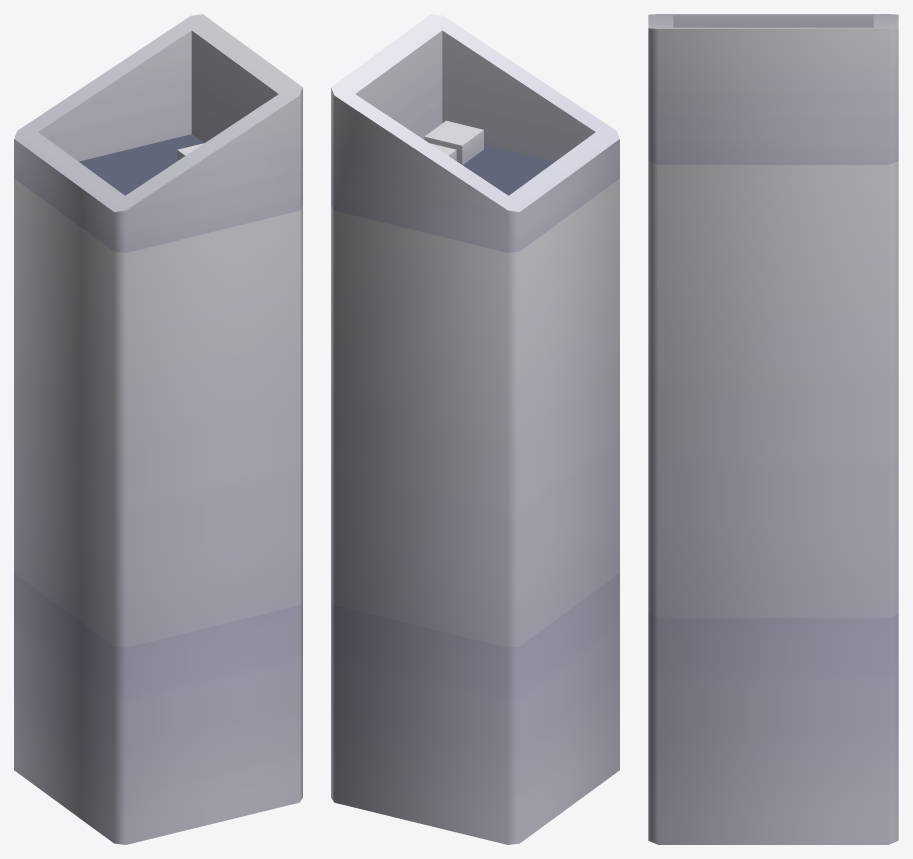
Rendered from low-detail-building-e.glb.
3 views of the same model, side by side, from view 1: azimuth 30°, elevation 25°; view 2: azimuth 150°, elevation 25°; view 3: azimuth 270°, elevation 25° (orthographic). The views are drawn at different scales.
Parts seen in each view (by area): view 1: low-detail-building-e; view 2: low-detail-building-e; view 3: low-detail-building-e.
Part boxes in pixels (bbox=[...]): low-detail-building-e: bbox=[14, 14, 302, 844]; low-detail-building-e: bbox=[331, 14, 619, 844]; low-detail-building-e: bbox=[648, 14, 898, 844].
Bounding box in the file's own units: 0.5 × 1.8 × 0.5.
Materials: 1 (1 with a texture image).
